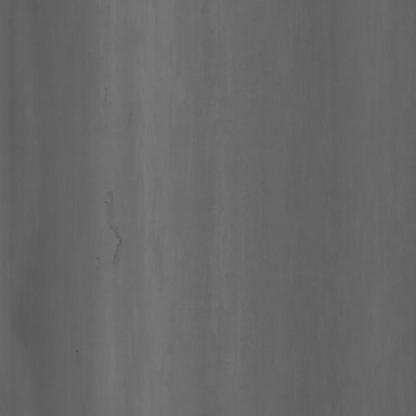water_spot: (99, 176, 131, 279)
